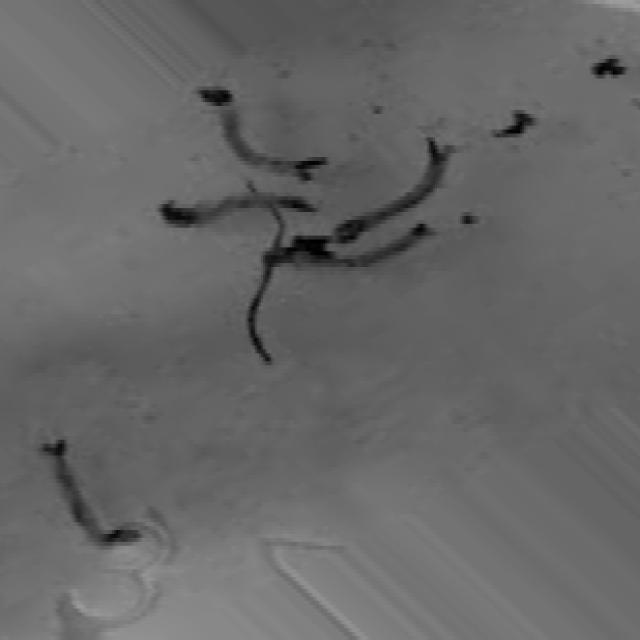larvas: (336, 135, 452, 255), (199, 80, 323, 180), (48, 441, 136, 543), (263, 229, 431, 274), (162, 192, 308, 228)
